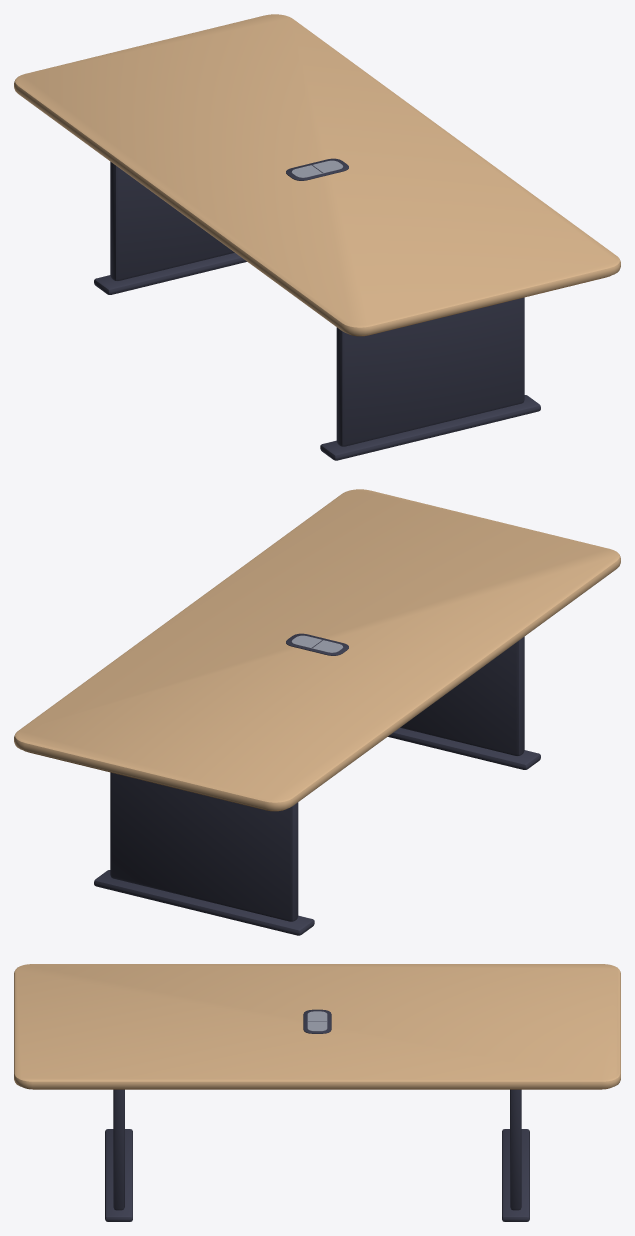
File: table_meeting.glb
The picture shows the model from 3 angles, top to bottom: view 1: azimuth 30°, elevation 25°; view 2: azimuth 150°, elevation 25°; view 3: azimuth 270°, elevation 25°; orthographic projection. The views are drawn at different scales.
Visible parts, largest first — view 1: oak, charcoal; view 2: oak, charcoal; view 3: oak, charcoal, oak_edge, steel.
Boxes of the visible parts, x1,y1,x2,y2 form: oak: (14,14,620,335); charcoal: (94,158,540,460); oak: (14,489,620,810); charcoal: (94,633,540,935); oak: (14,964,620,1088); charcoal: (105,1009,529,1221); oak_edge: (23,1087,611,1089); steel: (307,1011,327,1031).
Bounding box in the file's own units: 1.2 × 0.7448 × 2.6.
